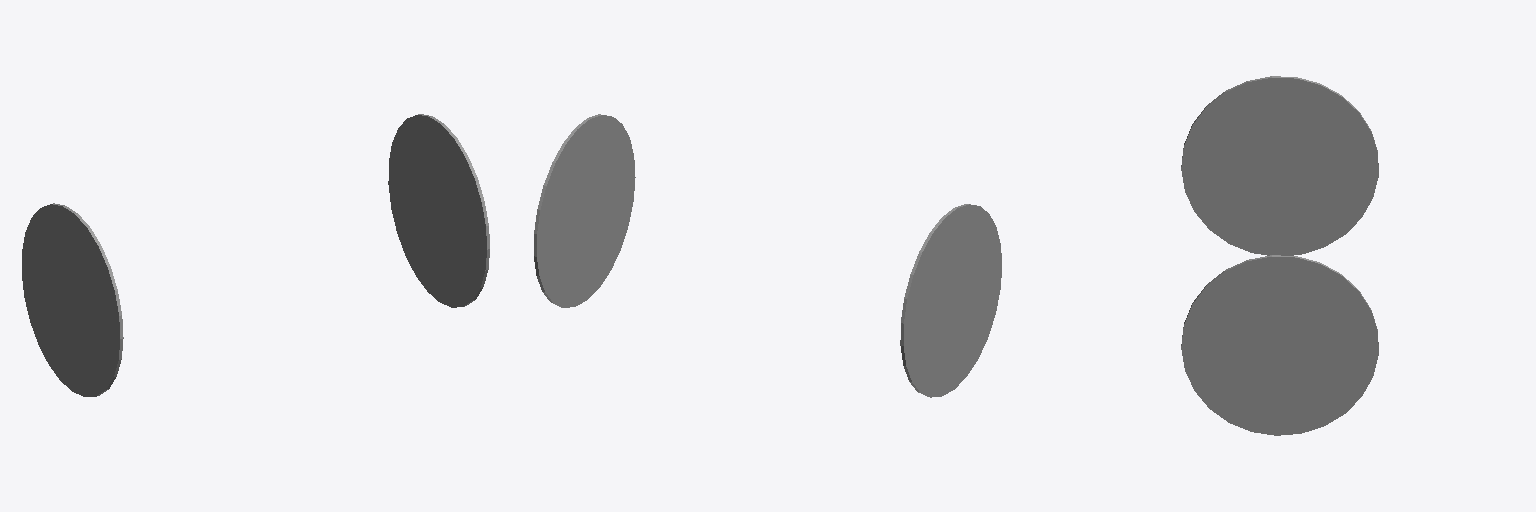
File: ruote_posteriori_OriginCentered.obj
The picture shows the model from 3 angles: view 1: azimuth 30°, elevation 25°; view 2: azimuth 150°, elevation 25°; view 3: azimuth 270°, elevation 25°; orthographic projection.
Parts seen in each view (by area): view 1: Geometry.002; view 2: Geometry.002; view 3: Geometry.002.
Boxes of the visible parts, <box> form: Geometry.002: <box>22,114,489,396</box>; Geometry.002: <box>534,114,1001,397</box>; Geometry.002: <box>1181,76,1378,435</box>.
Bounding box in the file's own units: 1.08 × 0.4989 × 0.4986.